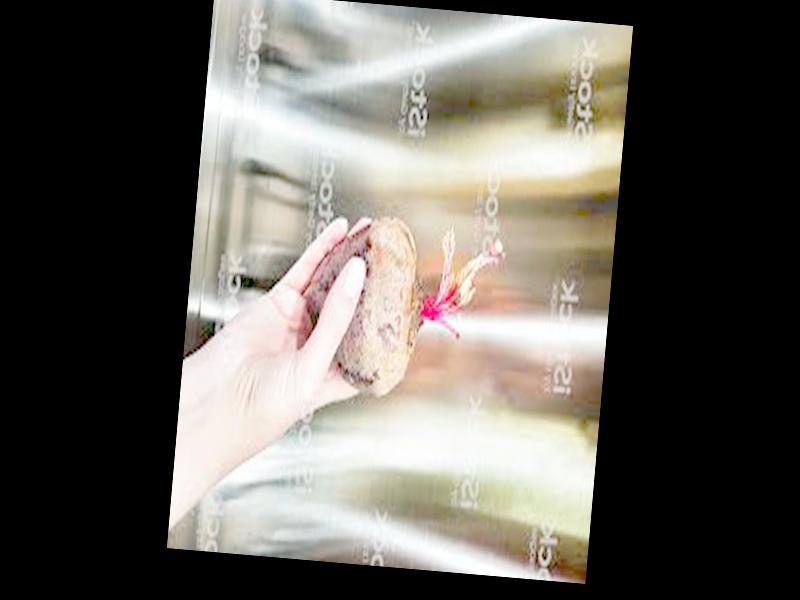Beet: (298, 210, 502, 403)
